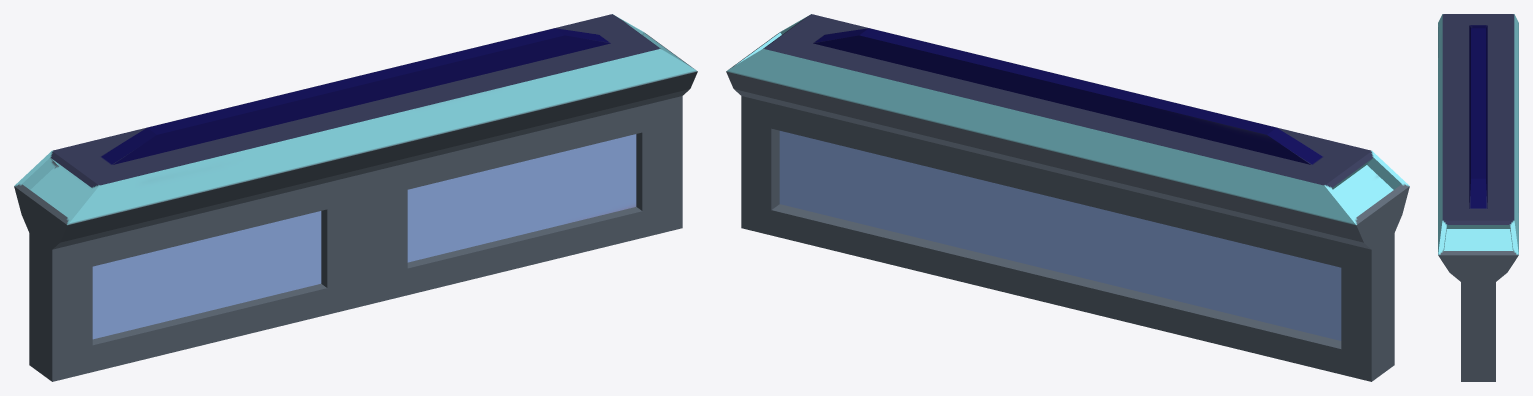
The model's file is wall.glb.
3 renders of one model, left to right at view 1: azimuth 30°, elevation 25°; view 2: azimuth 150°, elevation 25°; view 3: azimuth 270°, elevation 25°, orthographic. The views are drawn at different scales.
Visible parts, largest first — view 1: human_wall; view 2: human_wall; view 3: human_wall.
Part boxes in pixels (left/top/right/bottom): human_wall: left=14, top=14, right=697, bottom=381; human_wall: left=726, top=14, right=1409, bottom=381; human_wall: left=1438, top=14, right=1518, bottom=381.
Bounding box in the file's own units: 9.97 × 3.25 × 1.47.
Materials: 1 (1 with a texture image).
